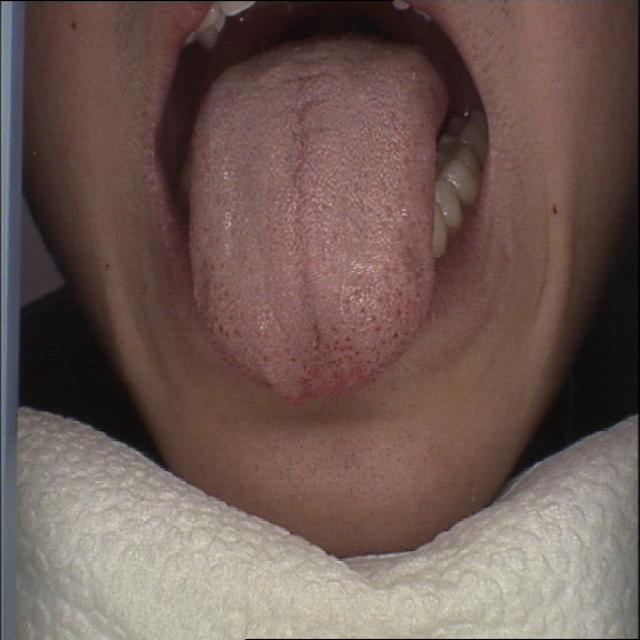baitaishe: (188, 39, 447, 403)
hongdianshe: (286, 303, 399, 367)
